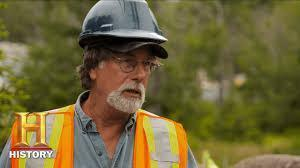helmet: (78, 0, 169, 43)
